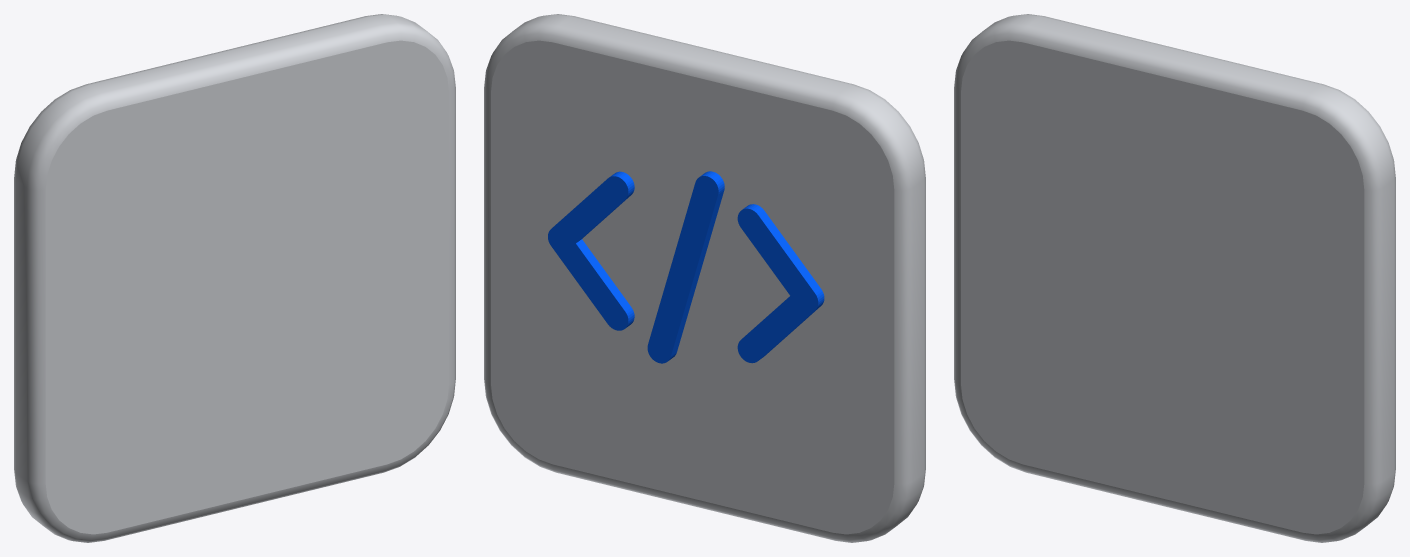
Rendered from 34-nodeworks-build-icon.glb.
3 views of the same model, side by side, from view 1: azimuth 30°, elevation 25°; view 2: azimuth 150°, elevation 25°; view 3: azimuth 330°, elevation 25° (orthographic).
Parts seen in each view (by area): view 1: rounded_white_icon_tile; view 2: rounded_white_icon_tile, central_forward_slash, right_code_bracket, left_code_bracket; view 3: rounded_white_icon_tile.
Boxes of the visible parts, box(x1,y1,x2,y2) form: rounded_white_icon_tile: box(14, 14, 455, 542); rounded_white_icon_tile: box(484, 14, 925, 542); central_forward_slash: box(647, 171, 724, 363); right_code_bracket: box(737, 204, 824, 363); left_code_bracket: box(548, 171, 634, 330); rounded_white_icon_tile: box(954, 14, 1395, 542).
Size of the model in its own units: 0.18 by 0.18 by 0.025.
